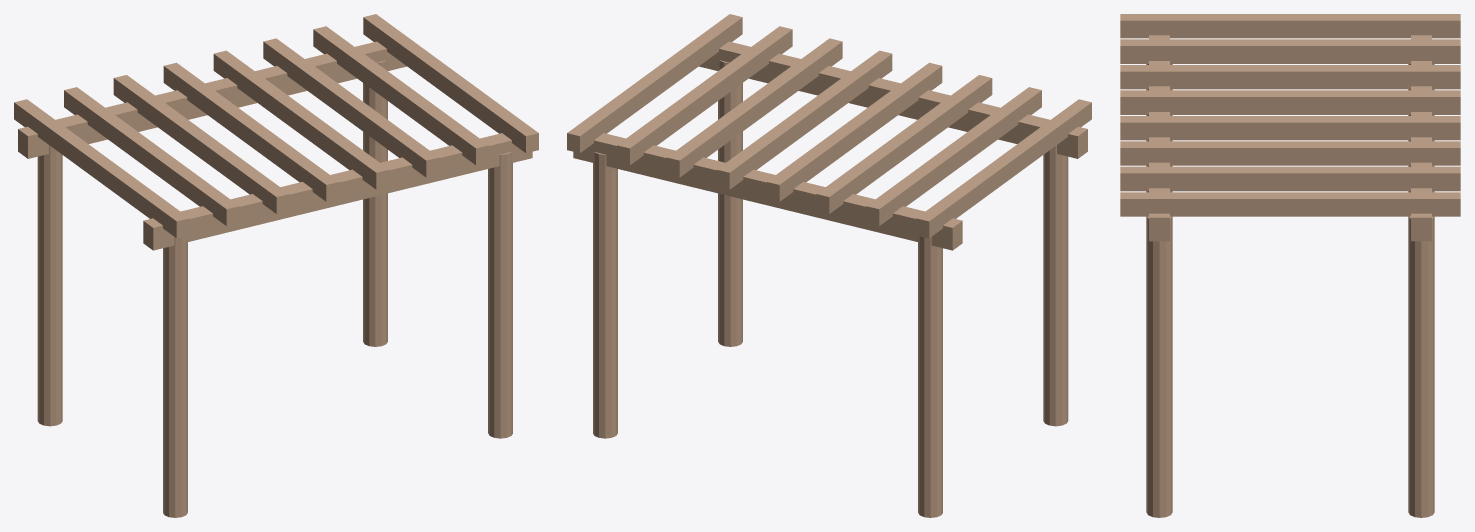
Rendered from pergola.glb.
3 views of the same model, side by side, from view 1: azimuth 30°, elevation 25°; view 2: azimuth 150°, elevation 25°; view 3: azimuth 270°, elevation 25° (orthographic). The views are drawn at different scales.
Visible parts, largest first — view 1: pergola_004, pergola_001, pergola_002, pergola_000, pergola_005, pergola_008, pergola_009, pergola_011, pergola_010, pergola_007, pergola_012, pergola_006 (+2 smaller); view 2: pergola_005, pergola_000, pergola_003, pergola_001, pergola_004, pergola_008, pergola_009, pergola_011, pergola_010, pergola_007, pergola_012, pergola_006 (+2 smaller); view 3: pergola_012, pergola_006, pergola_007, pergola_008, pergola_009, pergola_010, pergola_011, pergola_013, pergola_002, pergola_003, pergola_004, pergola_005.
Boxes of the visible parts, left/top/right/bottom form: pergola_004: left=143, top=133, right=532, bottom=250; pergola_001: left=37, top=145, right=62, bottom=426; pergola_002: left=488, top=152, right=512, bottom=438; pergola_000: left=163, top=236, right=187, bottom=517; pergola_005: left=18, top=41, right=406, bottom=158; pergola_008: left=113, top=75, right=289, bottom=213; pergola_009: left=163, top=62, right=339, bottom=201; pergola_011: left=263, top=38, right=439, bottom=177; pergola_010: left=213, top=50, right=389, bottom=189; pergola_007: left=64, top=87, right=239, bottom=226; pergola_012: left=313, top=26, right=488, bottom=165; pergola_006: left=14, top=99, right=189, bottom=238; pergola_005: left=573, top=133, right=962, bottom=250; pergola_000: left=1043, top=145, right=1068, bottom=426; pergola_003: left=593, top=152, right=617, bottom=438; pergola_001: left=918, top=236, right=942, bottom=517; pergola_004: left=699, top=41, right=1087, bottom=158; pergola_008: left=816, top=75, right=992, bottom=213; pergola_009: left=766, top=62, right=942, bottom=201; pergola_011: left=666, top=38, right=842, bottom=177; pergola_010: left=716, top=50, right=892, bottom=189; pergola_007: left=866, top=87, right=1041, bottom=226; pergola_012: left=617, top=26, right=792, bottom=165; pergola_006: left=916, top=99, right=1091, bottom=238; pergola_012: left=1120, top=166, right=1460, bottom=191; pergola_006: left=1120, top=14, right=1460, bottom=38; pergola_007: left=1120, top=39, right=1460, bottom=63; pergola_008: left=1120, top=65, right=1460, bottom=89; pergola_009: left=1120, top=90, right=1460, bottom=114; pergola_010: left=1120, top=116, right=1460, bottom=140; pergola_011: left=1120, top=141, right=1460, bottom=165; pergola_013: left=1120, top=192, right=1460, bottom=216; pergola_002: left=1146, top=216, right=1172, bottom=517; pergola_003: left=1408, top=216, right=1434, bottom=517; pergola_004: left=1149, top=35, right=1169, bottom=241; pergola_005: left=1411, top=35, right=1431, bottom=241.
Size of the model in its own units: 3.5 by 2.73 by 2.6.
